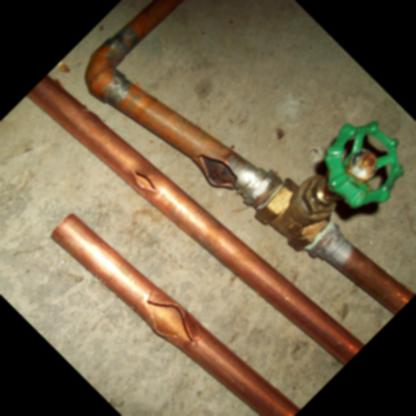burst: (144, 293, 197, 349), (195, 154, 246, 191), (132, 172, 162, 197)
